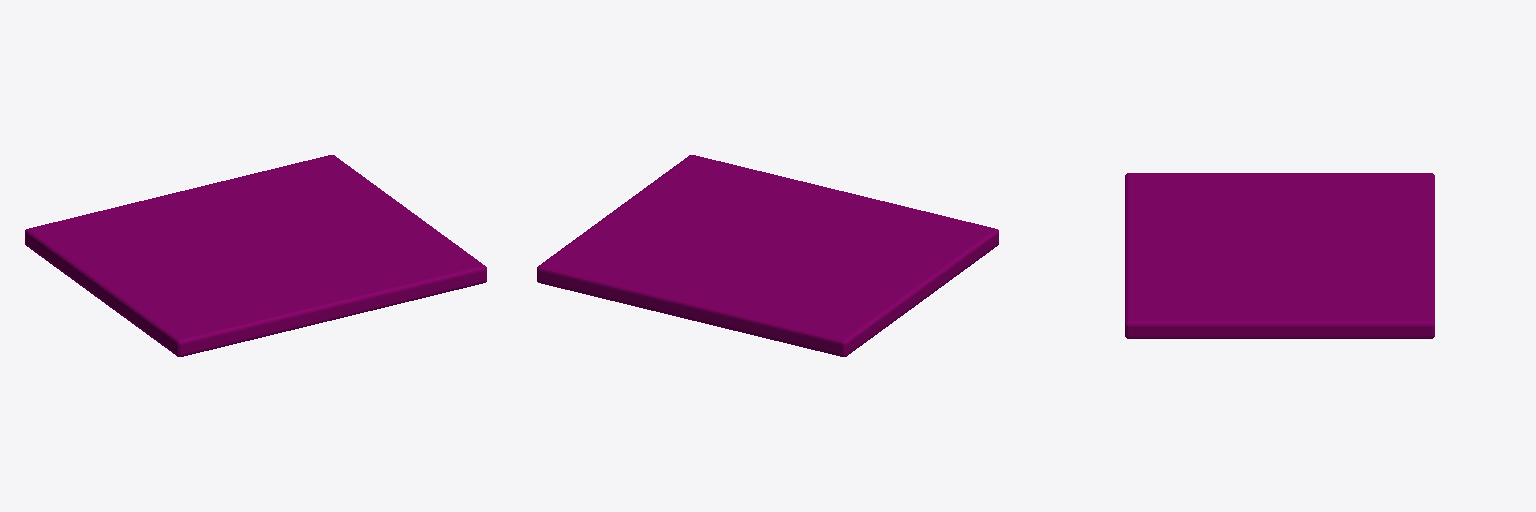
The model's file is block.obj.
The picture shows the model from 3 angles: view 1: azimuth 30°, elevation 25°; view 2: azimuth 150°, elevation 25°; view 3: azimuth 270°, elevation 25°; orthographic projection.
Visible parts, largest first — view 1: Box001; view 2: Box001; view 3: Box001.
Part boxes in pixels (x1,y1,x2,y2): Box001: (25, 155, 486, 356); Box001: (537, 155, 998, 356); Box001: (1125, 173, 1434, 338).
Bounding box in the file's own units: 3.75 × 0.2 × 3.25.